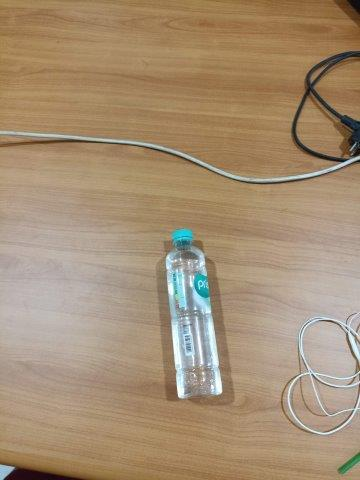botolplastik: (165, 228, 223, 399)
